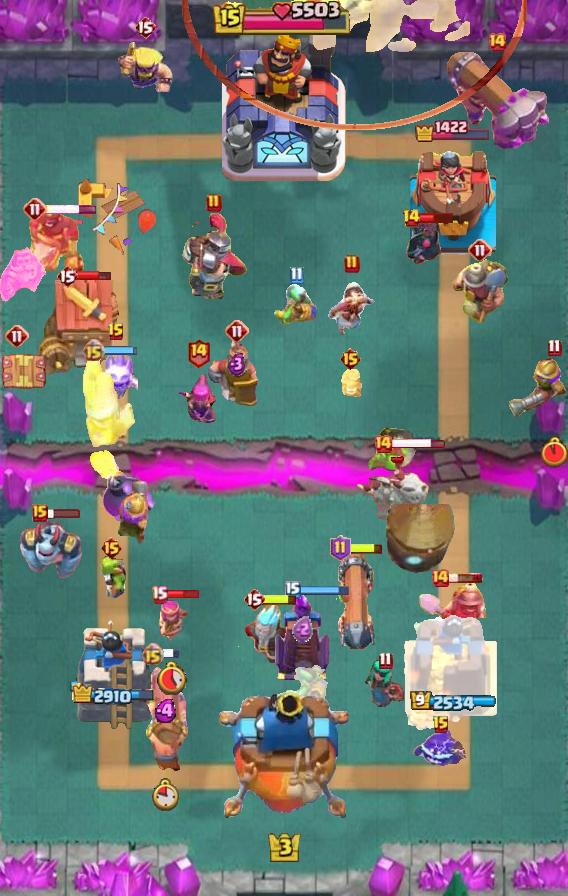archer: (153, 598, 189, 646)
archer-evolution: (176, 372, 221, 428)
bar: (391, 437, 446, 450), (45, 204, 98, 215), (298, 585, 350, 596), (418, 211, 455, 224), (262, 593, 298, 606), (348, 542, 384, 555), (76, 269, 112, 282), (447, 572, 483, 584), (45, 507, 81, 519), (166, 588, 201, 600), (103, 345, 138, 356), (161, 648, 180, 660)
bar-level: (186, 337, 211, 368), (5, 324, 29, 348), (225, 319, 249, 343), (468, 238, 492, 262), (23, 197, 47, 221), (100, 536, 123, 560), (339, 347, 362, 371), (330, 535, 351, 561), (141, 643, 164, 666), (82, 339, 105, 362), (243, 587, 265, 611), (56, 264, 78, 288), (134, 15, 156, 39), (430, 568, 450, 588), (373, 434, 393, 454), (487, 32, 507, 52), (402, 208, 421, 228), (432, 715, 450, 735), (107, 322, 125, 342), (151, 585, 168, 604), (344, 254, 360, 274), (206, 193, 222, 213), (285, 581, 301, 599), (32, 504, 48, 522), (378, 651, 393, 670), (547, 338, 562, 357), (289, 266, 304, 285)
barbarian-evolution: (114, 37, 176, 93)
bomb: (84, 448, 156, 522)
clock: (155, 660, 188, 695), (152, 778, 180, 811), (541, 436, 568, 468)
electro-spirit: (413, 728, 469, 768)
elixir: (154, 699, 179, 723), (292, 616, 313, 642), (228, 352, 246, 376)
goblin: (93, 551, 129, 601)
goblin-ball: (364, 426, 418, 474)
ice-spirit-evolution: (94, 346, 138, 400)
ice-wizard: (236, 602, 298, 668)
king-tower: (222, 31, 346, 181), (219, 692, 349, 826)
king-tower-bar: (213, 0, 355, 38)
knight: (82, 353, 138, 450)
knight-evolution: (0, 245, 46, 303)
lava-pup: (337, 369, 363, 397)
mega-minion: (18, 514, 86, 580)
miner: (418, 574, 488, 644), (449, 256, 511, 330)
mini-pekka: (404, 218, 444, 270)
musketeer: (504, 355, 568, 421), (114, 478, 154, 546)
princess: (326, 279, 378, 337)
queen-tower: (402, 613, 505, 731), (70, 616, 158, 731), (410, 145, 496, 256)
rascal-girl: (363, 660, 407, 710)
royal-recruit: (207, 333, 267, 407)
spear-goblin: (271, 283, 321, 327), (281, 663, 329, 705)
tesla: (0, 349, 50, 395)
tower-bar: (72, 683, 157, 708), (410, 691, 497, 713), (414, 119, 492, 143)
